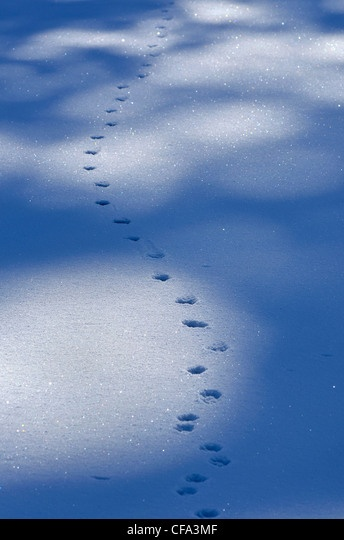fox: (155, 360, 243, 475)
